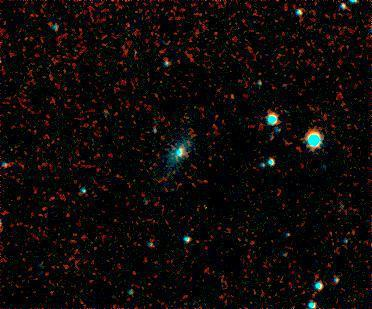star: (216, 81, 246, 111)
